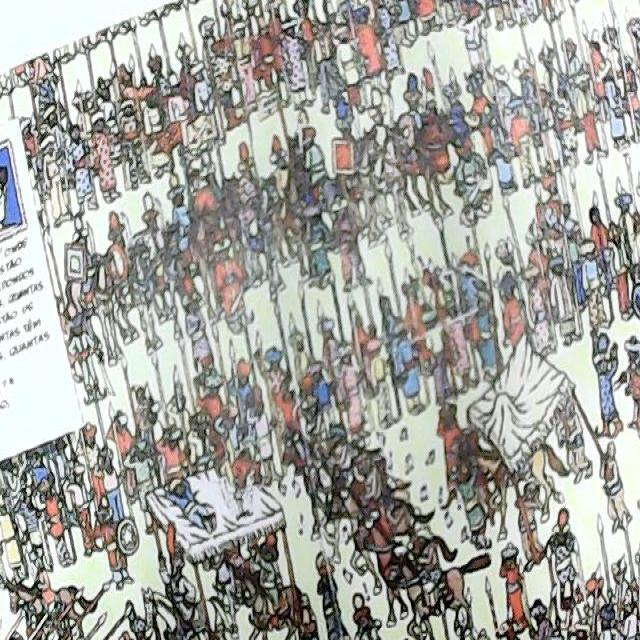waldo: (188, 169, 205, 194)
